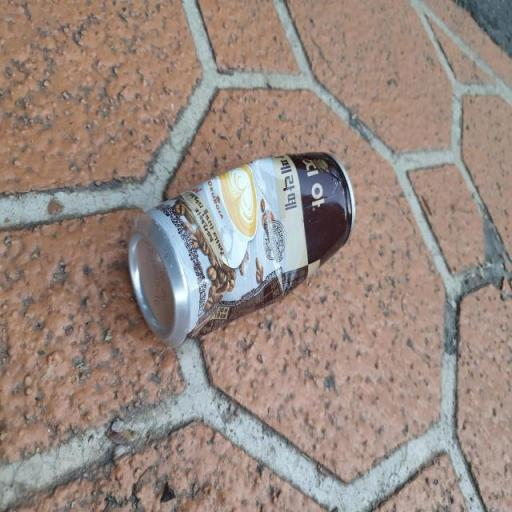metal: (114, 120, 376, 402)
